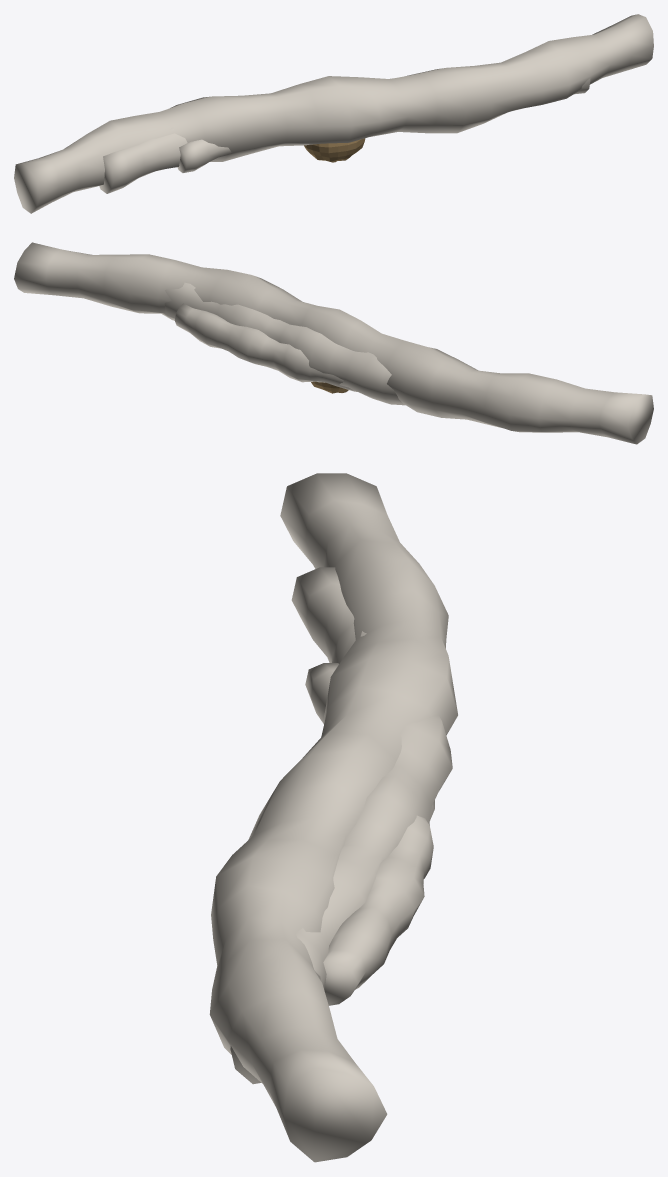
File: debris.glb
3 renders of one model, top to bottom at view 1: azimuth 30°, elevation 25°; view 2: azimuth 150°, elevation 25°; view 3: azimuth 270°, elevation 25°, orthographic. The views are drawn at different scales.
Parts seen in each view (by area): view 1: Driftwood2, Driftwood1, Driftwood0, Coconut; view 2: Driftwood2, Driftwood1, Driftwood0; view 3: Driftwood2, Driftwood1, Driftwood0.
Part boxes in pixels (x1,y1,x2,y2): Driftwood2: (14,14,653,213); Driftwood1: (99,78,590,193); Driftwood0: (177,78,392,172); Coconut: (304,138,365,162); Driftwood2: (14,242,653,444); Driftwood1: (161,282,405,405); Driftwood0: (174,303,357,391); Driftwood2: (209,473,457,1162); Driftwood1: (230,567,452,1084); Driftwood0: (305,663,434,1005).
Bounding box in the file's own units: 3.2 × 0.3932 × 0.5616.
